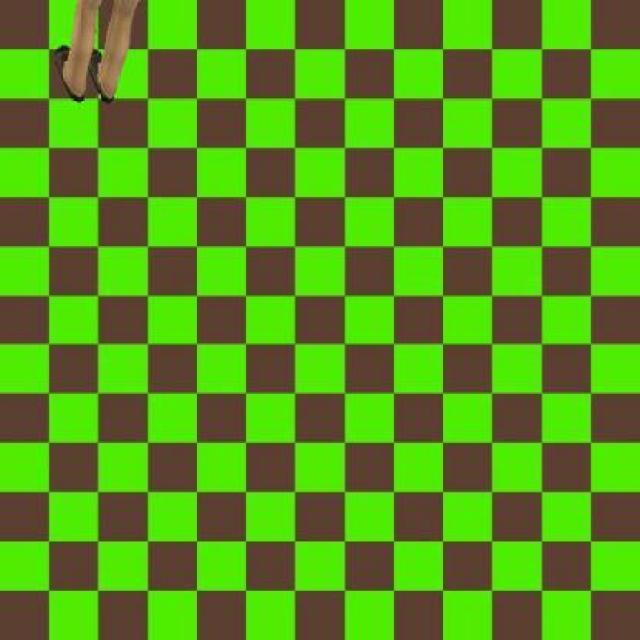Person: (46, 0, 146, 105)
